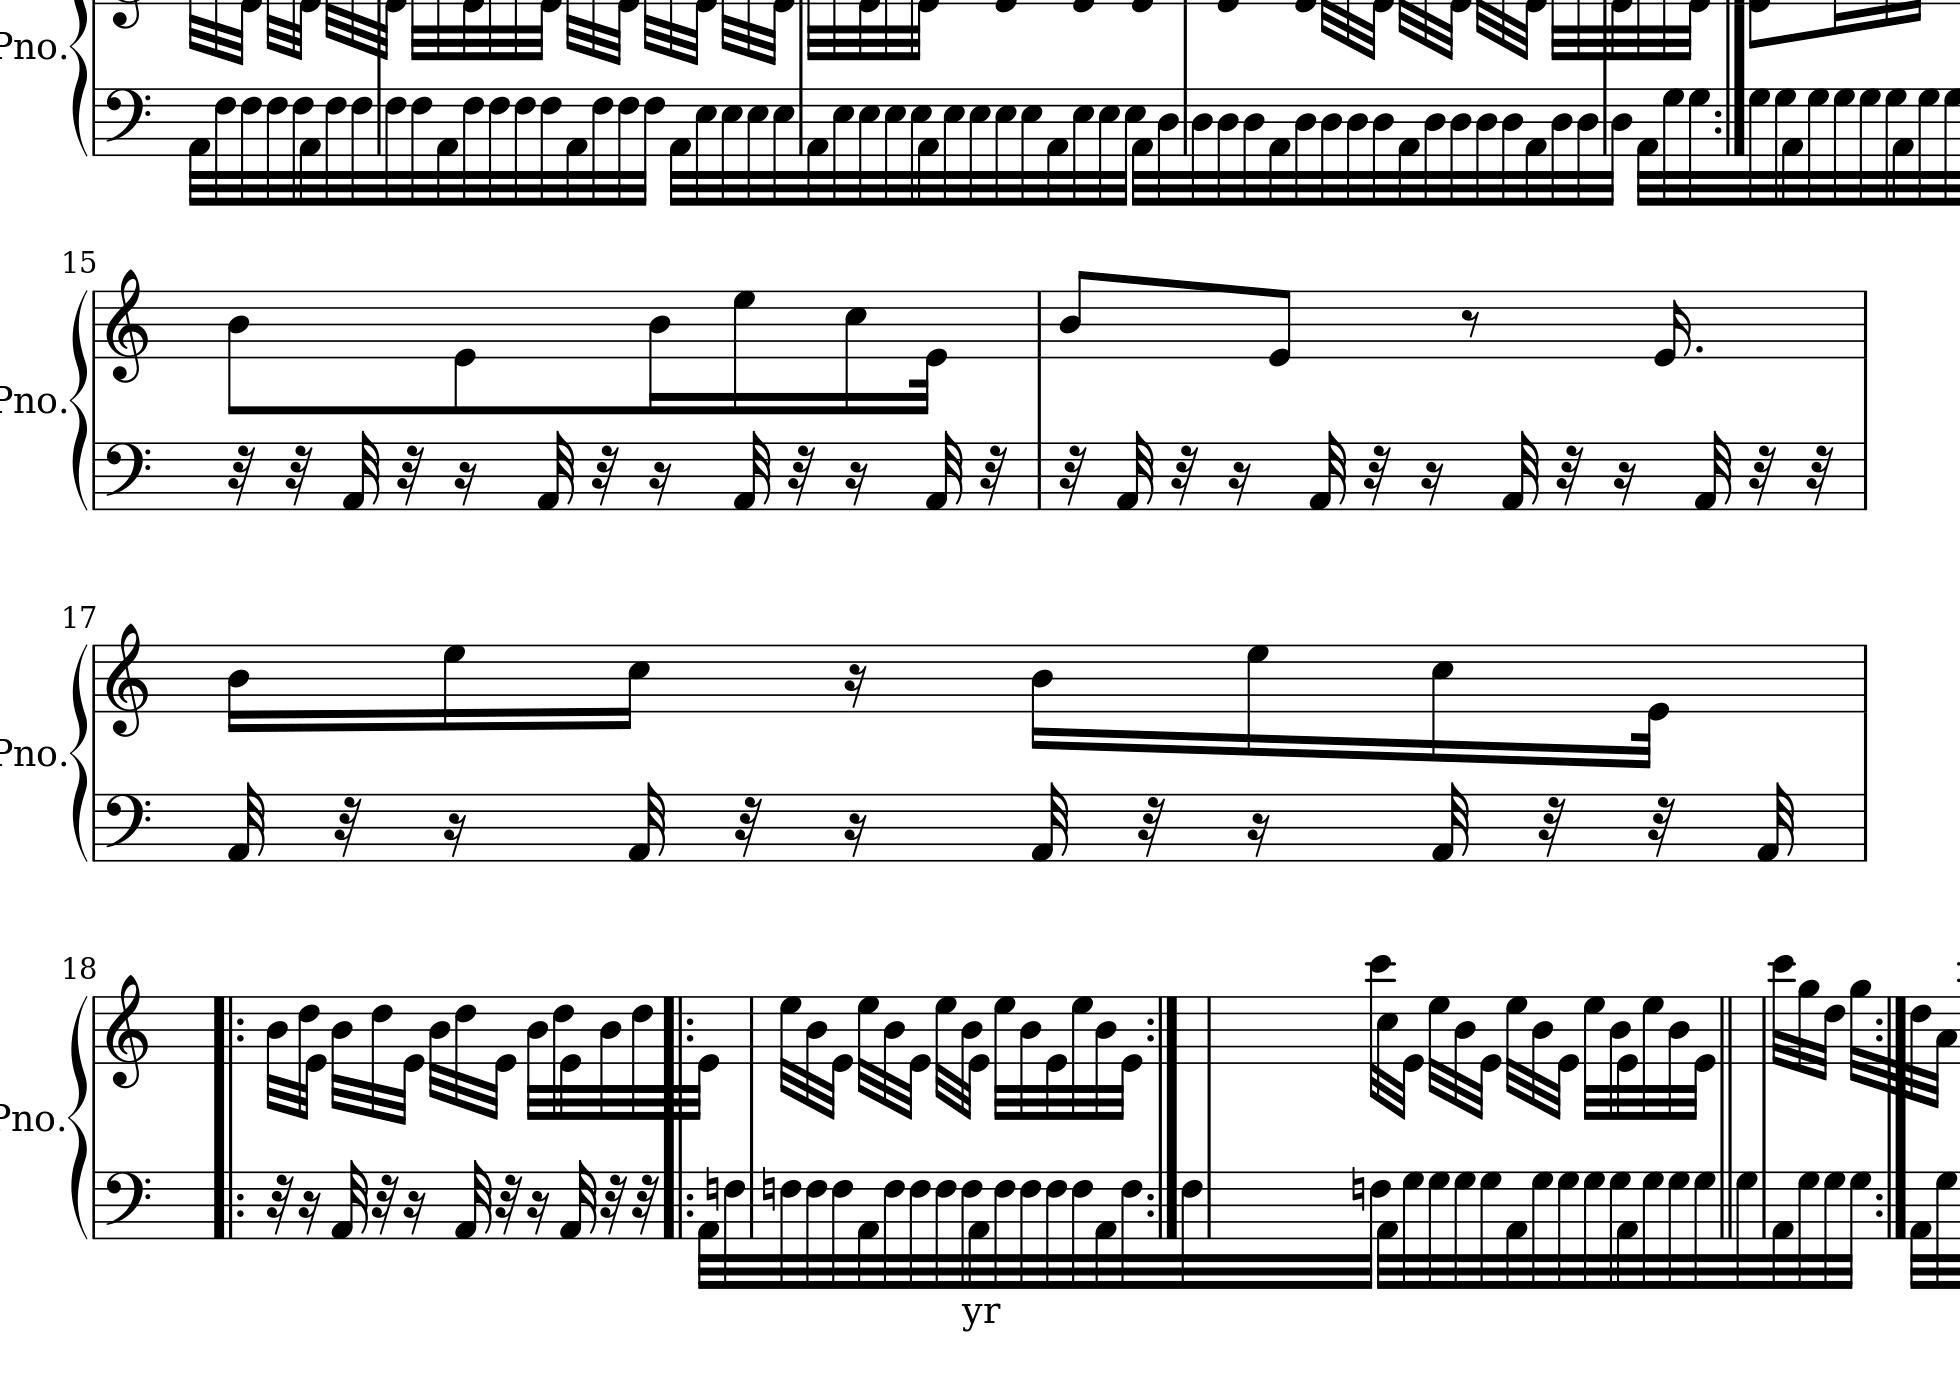1: (61, 603, 76, 631), (61, 249, 76, 274), (61, 954, 75, 979)
16_0: (1653, 289, 1692, 367)
16_4: (646, 288, 672, 415), (1029, 640, 1054, 751), (226, 640, 250, 735)
16_5: (1429, 640, 1455, 762), (844, 288, 868, 415), (616, 643, 649, 732)
16_7: (730, 286, 757, 417), (1243, 640, 1270, 757), (439, 640, 466, 733)
32_0: (910, 286, 948, 415), (1633, 640, 1669, 766), (394, 994, 426, 1126), (486, 991, 517, 1123), (690, 994, 721, 1120), (1116, 993, 1146, 1123), (904, 993, 933, 1122), (1474, 993, 1503, 1122), (1044, 991, 1071, 1123), (826, 994, 853, 1120), (1398, 994, 1425, 1120), (1554, 994, 1581, 1120)
32_1: (922, 429, 964, 513), (963, 1168, 991, 1291), (1114, 429, 1156, 511), (1500, 429, 1542, 511), (1029, 781, 1071, 864), (625, 781, 666, 864), (453, 1158, 493, 1240), (732, 430, 772, 511), (1692, 429, 1732, 510), (1755, 781, 1795, 862), (1770, 1168, 1797, 1290), (1308, 429, 1347, 511), (226, 780, 265, 862), (1431, 781, 1470, 864), (330, 1158, 369, 1240), (559, 1158, 598, 1240), (667, 85, 693, 211), (435, 84, 460, 208), (1267, 84, 1293, 208), (1635, 84, 1660, 208), (340, 430, 379, 511), (535, 430, 574, 511), (186, 85, 211, 208), (564, 85, 589, 208), (1045, 85, 1071, 208), (1504, 1170, 1530, 1293), (1908, 1168, 1933, 1291), (1093, 1171, 1119, 1291), (1524, 84, 1548, 208), (805, 85, 829, 208), (856, 1168, 880, 1291), (1398, 85, 1422, 207)
32_12: (1768, 952, 1795, 1069)
32_3: (1930, 993, 1959, 1108)
32_4: (1602, 82, 1635, 208), (1548, 82, 1575, 208), (525, 991, 550, 1123), (1155, 84, 1182, 208), (1018, 991, 1044, 1122), (1575, 82, 1600, 208), (1189, 84, 1215, 208), (1371, 84, 1396, 208), (1474, 84, 1500, 208), (1500, 84, 1525, 208), (1215, 84, 1240, 207), (1293, 84, 1318, 207), (1422, 84, 1447, 207), (598, 991, 622, 1120), (1095, 993, 1119, 1120), (1668, 993, 1692, 1120), (1320, 84, 1344, 208), (1345, 84, 1369, 208), (1449, 84, 1473, 208), (1242, 84, 1266, 207), (804, 994, 829, 1110), (264, 993, 288, 1114), (330, 993, 354, 1114), (882, 993, 906, 1113), (1531, 993, 1555, 1113), (1453, 994, 1477, 1111), (427, 994, 451, 1108)
32_5: (1071, 82, 1096, 205), (1020, 85, 1045, 207), (771, 85, 796, 205), (831, 87, 856, 205), (694, 84, 718, 208), (994, 85, 1018, 208), (1098, 84, 1122, 207), (856, 85, 880, 207), (883, 84, 907, 205), (745, 85, 769, 205), (720, 87, 744, 205)
32_6: (294, 991, 325, 1122), (637, 85, 667, 208), (1119, 1168, 1146, 1291), (538, 84, 565, 205), (370, 991, 394, 1123), (322, 84, 348, 207), (349, 85, 375, 208), (409, 85, 435, 207), (591, 85, 616, 207), (631, 991, 655, 1120), (1044, 1168, 1069, 1288), (513, 82, 537, 207), (616, 84, 640, 208), (265, 84, 289, 207), (213, 85, 237, 207), (384, 87, 408, 208), (462, 84, 486, 205), (487, 85, 511, 207), (238, 85, 262, 205), (723, 1168, 747, 1288), (778, 1170, 802, 1290), (805, 1168, 829, 1288), (907, 1168, 931, 1288), (934, 1168, 958, 1288), (993, 1170, 1017, 1290), (1071, 1170, 1095, 1290), (454, 993, 478, 1111), (831, 1170, 855, 1288), (882, 1171, 906, 1288), (1818, 993, 1845, 1083), (1911, 994, 1932, 1105)
32_7: (1845, 1168, 1875, 1290), (1686, 85, 1713, 207), (1692, 1168, 1719, 1290), (1794, 1168, 1821, 1290), (1530, 1168, 1557, 1288), (1734, 1170, 1761, 1288), (1452, 1167, 1477, 1291), (1582, 991, 1606, 1122), (1915, 85, 1941, 207), (1746, 85, 1771, 205), (1641, 991, 1665, 1119), (1582, 1168, 1608, 1288), (1641, 1168, 1666, 1288), (1401, 1170, 1426, 1288), (1668, 1168, 1692, 1291), (1806, 85, 1830, 207), (1858, 85, 1882, 207), (1071, 991, 1093, 1120), (1833, 87, 1857, 207), (1662, 87, 1686, 205), (1479, 1170, 1503, 1288), (1935, 1171, 1959, 1290), (1822, 1168, 1845, 1291), (856, 994, 880, 1102), (1506, 994, 1528, 1104), (778, 994, 802, 1096), (1428, 994, 1450, 1102), (1942, 85, 1960, 208)
32_8: (1020, 1170, 1044, 1290)
32_9: (1848, 976, 1872, 1084), (1795, 976, 1821, 1075)
5: (79, 247, 96, 274)
64_5: (967, 85, 993, 205), (943, 85, 966, 205)
7: (79, 601, 97, 631)
8: (79, 952, 96, 979)
8_0: (453, 286, 475, 414), (1267, 286, 1293, 367)
8_4: (225, 286, 250, 417), (1059, 268, 1092, 360)
Brace: (67, 991, 90, 1240), (69, 286, 90, 510), (69, 640, 90, 859)
Double_barline: (1719, 1168, 1741, 1237), (1716, 994, 1738, 1062)
Fclef: (100, 1168, 151, 1240), (102, 85, 151, 156), (102, 790, 151, 861), (102, 439, 150, 510)
Gclef: (103, 970, 150, 1090), (103, 265, 150, 384), (103, 619, 150, 738)
LeftRepeatSign: (661, 993, 697, 1063), (210, 994, 246, 1063), (211, 1170, 247, 1239), (661, 1170, 697, 1237)
Natural: (703, 1164, 720, 1212), (1350, 1164, 1366, 1212), (760, 1164, 775, 1212)
Pno: (1, 28, 57, 64), (1, 735, 58, 769), (1, 382, 55, 417), (1, 1099, 55, 1134)
Rests16: (843, 810, 868, 859), (1246, 810, 1272, 858), (453, 460, 478, 507), (1227, 460, 1252, 507), (1612, 460, 1638, 507), (843, 661, 867, 709), (402, 1188, 426, 1236), (526, 1188, 550, 1236), (648, 460, 673, 505), (1420, 460, 1446, 505), (442, 811, 466, 858), (844, 460, 868, 505), (298, 1188, 321, 1236)
Rests32: (1170, 442, 1200, 508), (733, 793, 763, 859), (1137, 793, 1167, 859), (226, 442, 256, 507), (283, 442, 313, 507), (1059, 442, 1089, 507), (1555, 442, 1585, 507), (1747, 442, 1777, 507), (1363, 442, 1392, 508), (1537, 793, 1566, 859), (979, 442, 1008, 507), (1806, 442, 1834, 507), (333, 793, 361, 858), (396, 444, 424, 507), (591, 444, 619, 507), (787, 444, 816, 507), (1647, 795, 1675, 858), (265, 1171, 292, 1237), (372, 1171, 399, 1237), (496, 1171, 523, 1237), (631, 1173, 658, 1237), (601, 1171, 627, 1236)
Rests8: (1461, 307, 1482, 339)
RightRepeatSign: (1144, 1168, 1185, 1237), (1713, 87, 1752, 153), (1146, 994, 1182, 1062), (1875, 1168, 1909, 1237), (1875, 994, 1912, 1057)
Single_barline: (1200, 1171, 1219, 1237), (742, 996, 760, 1063), (1032, 289, 1050, 355), (1200, 996, 1218, 1062), (1755, 1171, 1773, 1237), (1857, 291, 1875, 355), (1177, 88, 1194, 154), (1857, 442, 1873, 508), (1857, 793, 1873, 859), (1857, 645, 1873, 709), (1032, 442, 1048, 505), (793, 88, 808, 154), (1756, 997, 1771, 1063), (744, 1170, 759, 1236), (88, 289, 102, 357), (88, 1170, 102, 1237), (88, 442, 102, 508), (87, 645, 100, 711), (88, 793, 102, 859), (88, 996, 102, 1062), (88, 88, 102, 153)
dot: (1692, 342, 1707, 355)
